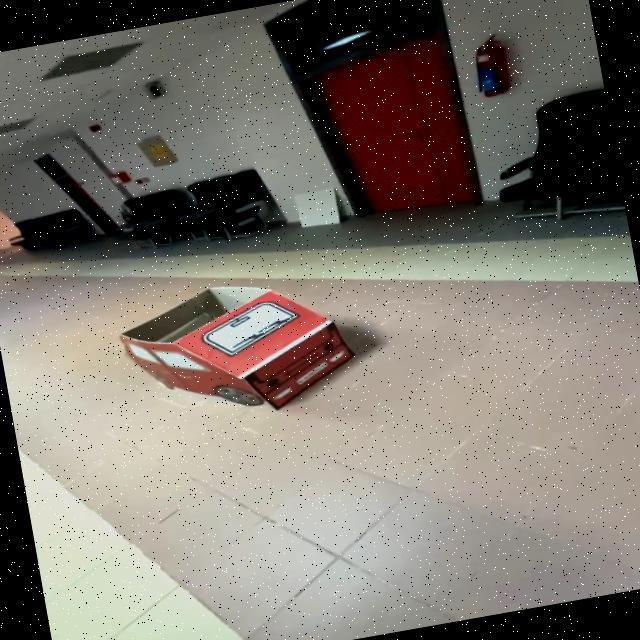red_car: (78, 238, 399, 464)
